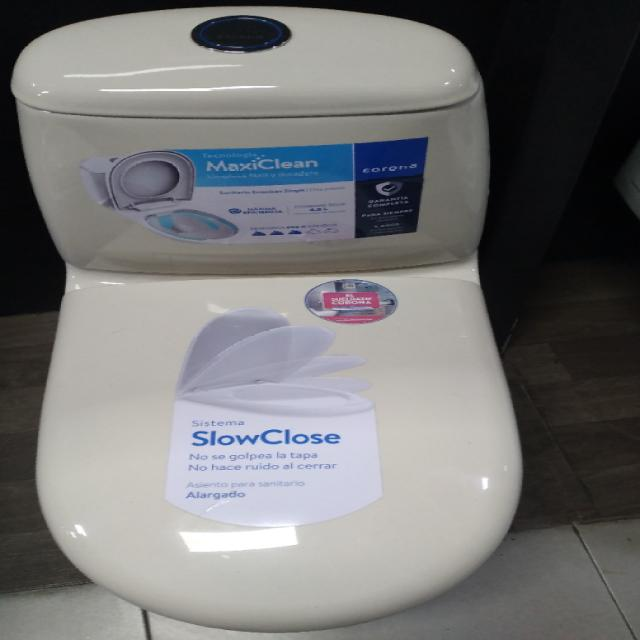toilet: (10, 6, 523, 634)
